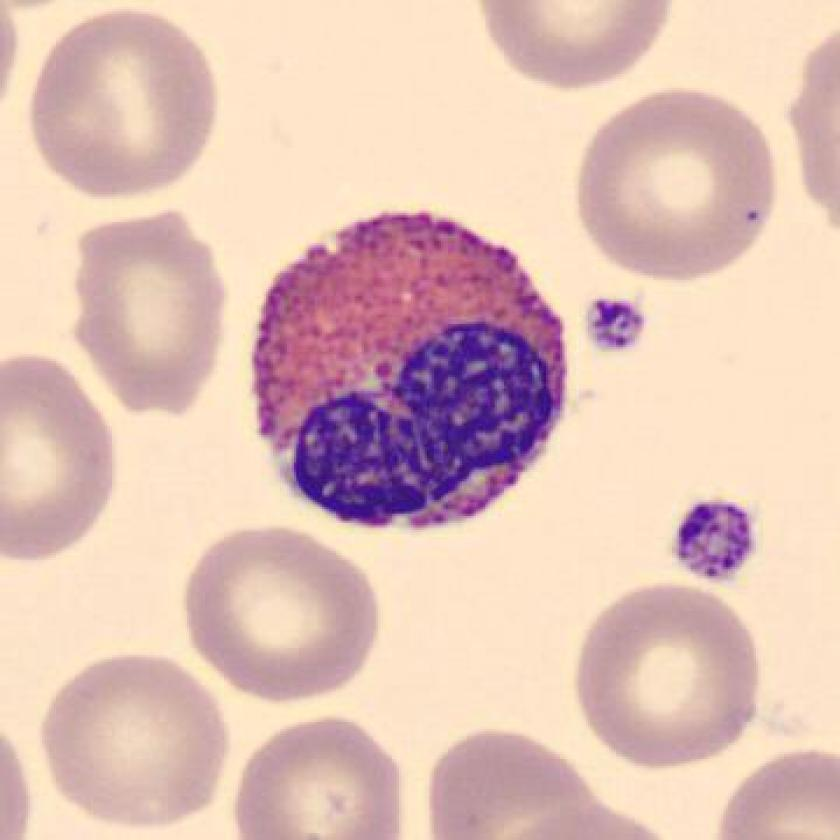eosinophil: (239, 193, 584, 552)
